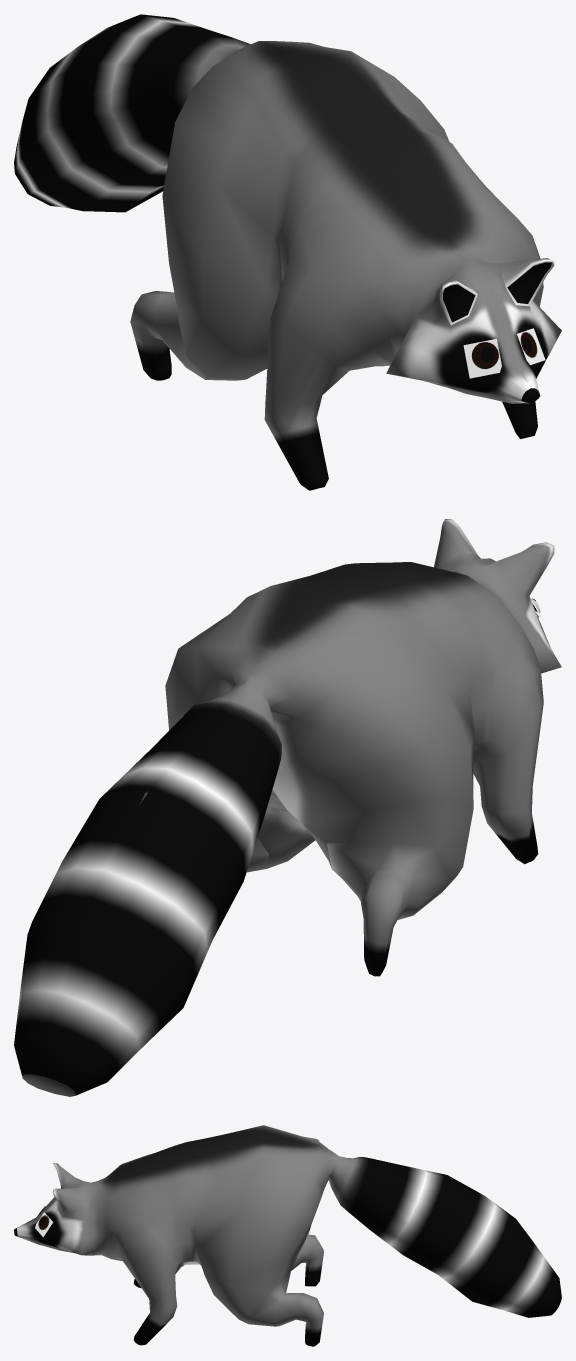
The model's file is thiccoon.obj.
3 renders of one model, top to bottom at view 1: azimuth 30°, elevation 25°; view 2: azimuth 150°, elevation 25°; view 3: azimuth 270°, elevation 25°, orthographic. The views are drawn at different scales.
Parts seen in each view (by area): view 1: thiccoon; view 2: thiccoon; view 3: thiccoon.
Boxes of the visible parts, <box> form: thiccoon: <box>14,14,561,490</box>; thiccoon: <box>14,519,561,1096</box>; thiccoon: <box>14,1125,561,1346</box>.
Size of the model in its own units: 0.6662 by 0.7402 by 2.05.
Materials: 2 (2 with a texture image).
